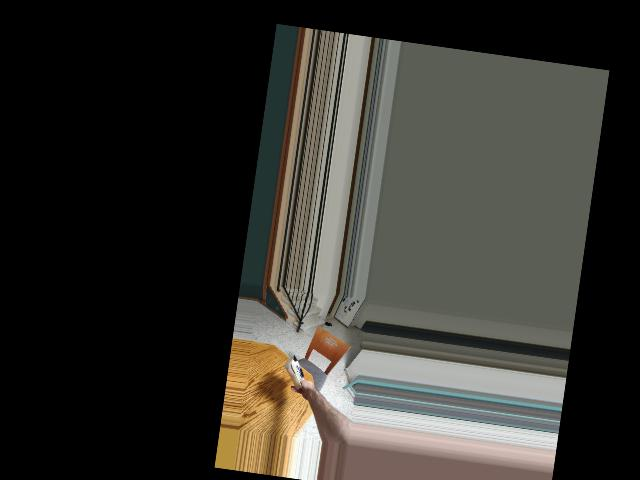cheese: (281, 353, 309, 391)
